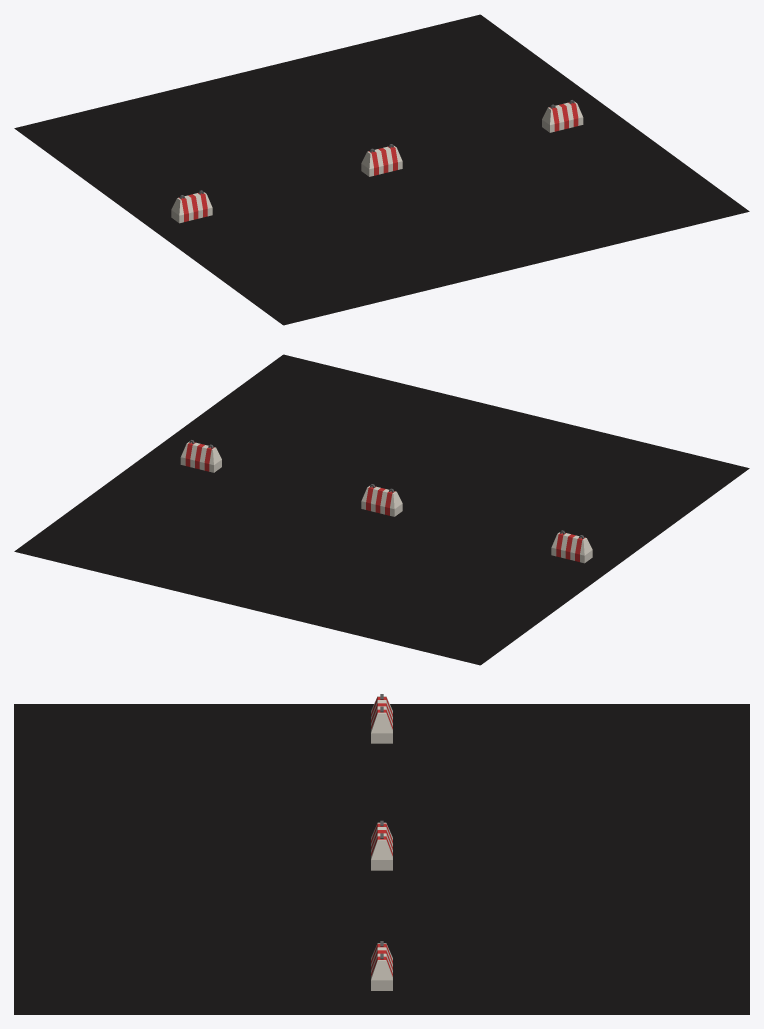
File: Tile 15_Combined_2.fbx
3 renders of one model, top to bottom at view 1: azimuth 30°, elevation 25°; view 2: azimuth 150°, elevation 25°; view 3: azimuth 270°, elevation 25°, orthographic. The views are drawn at different scales.
Visible parts, largest first — view 1: MeshBaker_Cluster_0_mesh_mesh; view 2: MeshBaker_Cluster_0_mesh_mesh; view 3: MeshBaker_Cluster_0_mesh_mesh.
Part boxes in pixels (<box>): MeshBaker_Cluster_0_mesh_mesh: <box>14,14,749,325</box>; MeshBaker_Cluster_0_mesh_mesh: <box>14,354,749,665</box>; MeshBaker_Cluster_0_mesh_mesh: <box>14,694,749,1014</box>.
Bounding box in the file's own units: 3000 × 142 × 3000.
